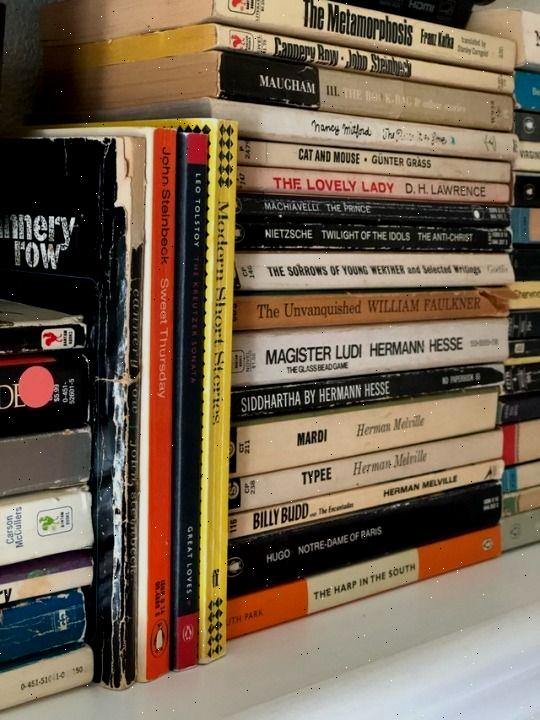book: (229, 389, 504, 474), (208, 56, 513, 132), (227, 462, 500, 542), (213, 0, 512, 69), (227, 334, 512, 393), (226, 112, 515, 166), (232, 143, 513, 189), (229, 289, 511, 331), (231, 250, 514, 291), (232, 220, 510, 251), (235, 194, 510, 225)
